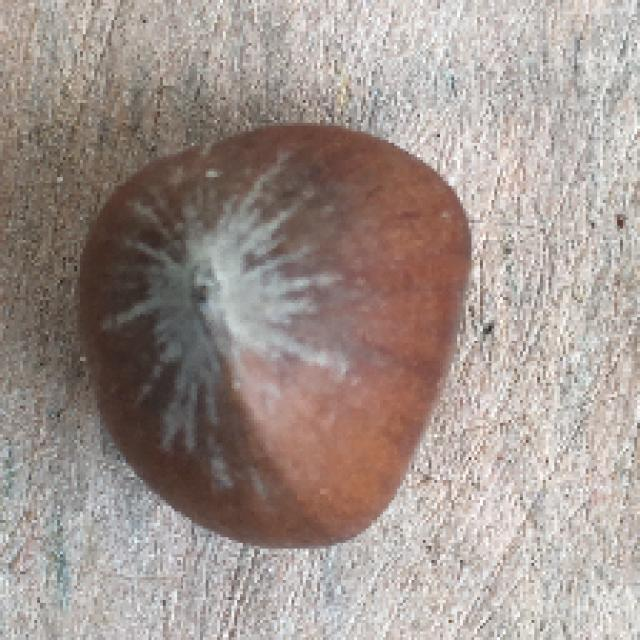damagedHazelnut: (70, 112, 476, 548)
